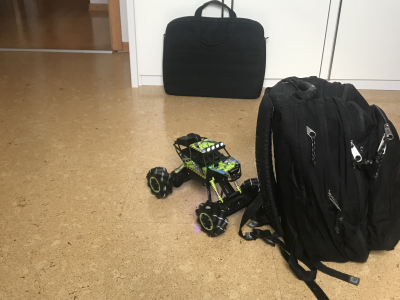remote control car: (145, 128, 265, 238)
